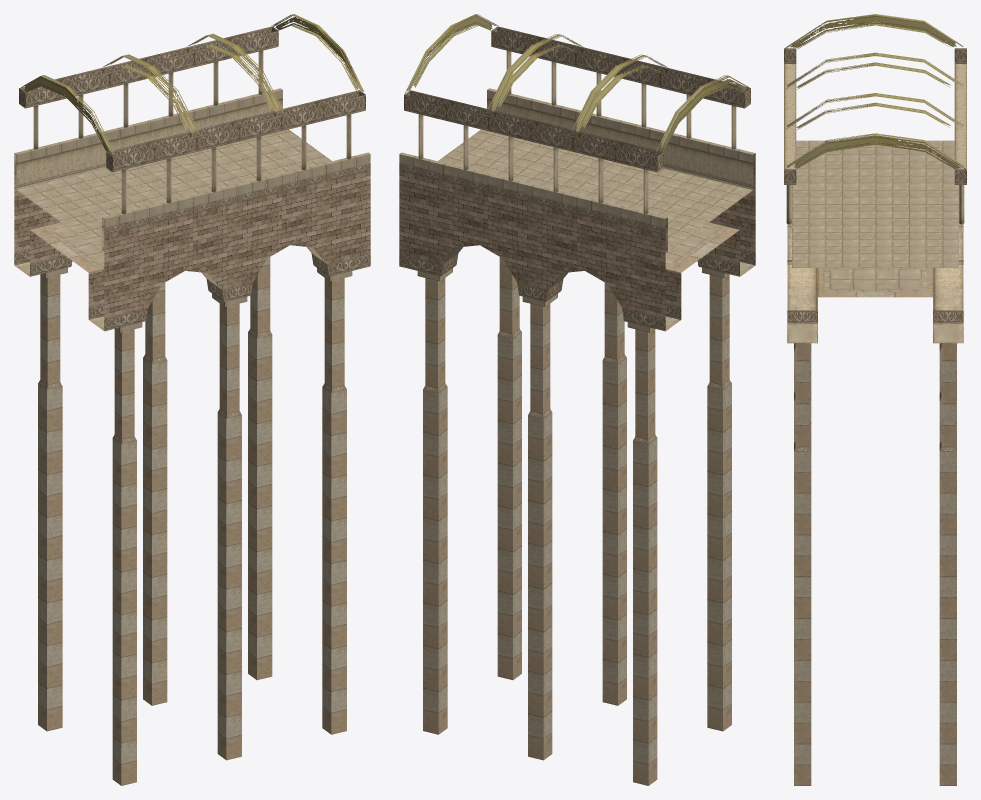
Rendered from thm_nboo_imprv_enclosed_walkway_s01_l1.fbx.
3 renders of one model, left to right at view 1: azimuth 30°, elevation 25°; view 2: azimuth 150°, elevation 25°; view 3: azimuth 270°, elevation 25°, orthographic. The views are drawn at different scales.
Parts seen in each view (by area): view 1: mesh_node; view 2: mesh_node; view 3: mesh_node.
Part boxes in pixels (box(x1,y1,x2,y2)): mesh_node: box(14, 14, 370, 785); mesh_node: box(399, 14, 755, 785); mesh_node: box(784, 14, 966, 785).
Bounding box in the file's own units: 8.88 × 21.4 × 5.39.
